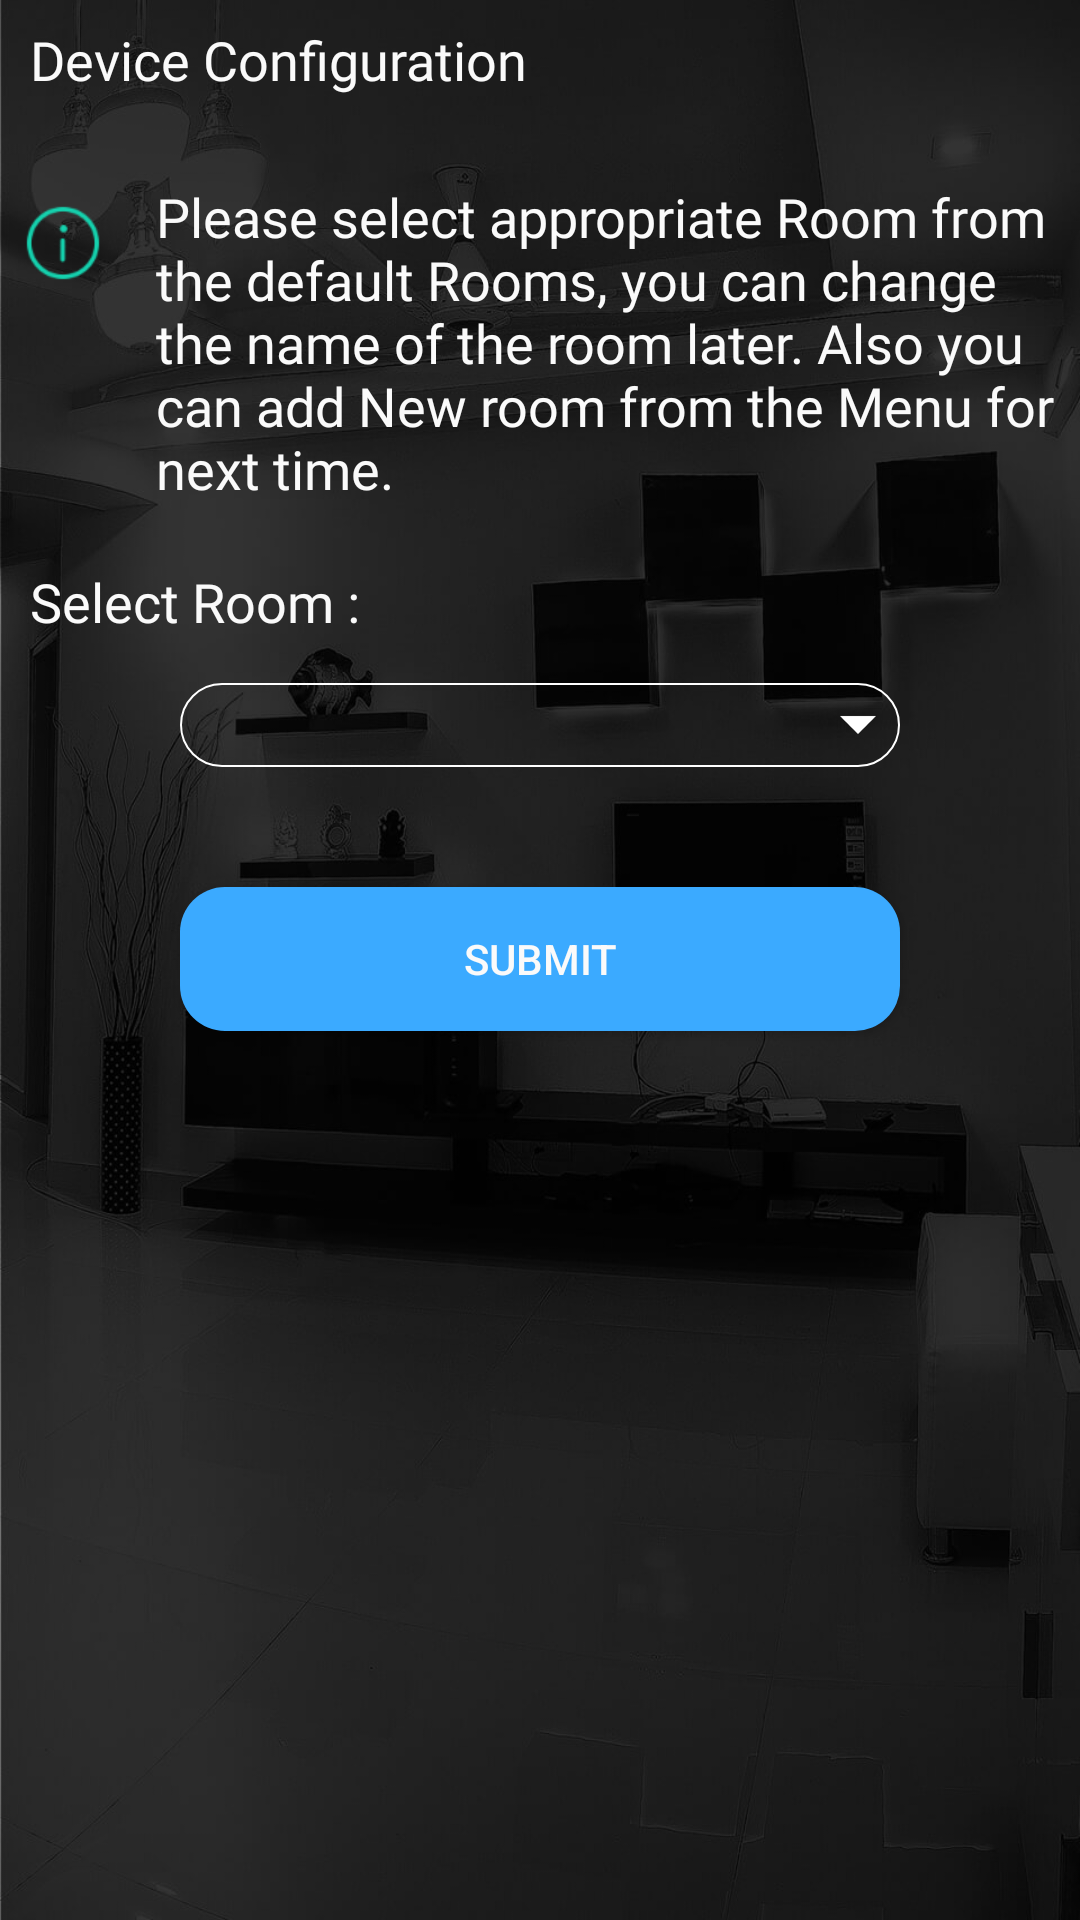

Icons on this 1080x1920 Android screen, each with the point to tap as [x,y]:
drop down arrow: [858,725]
